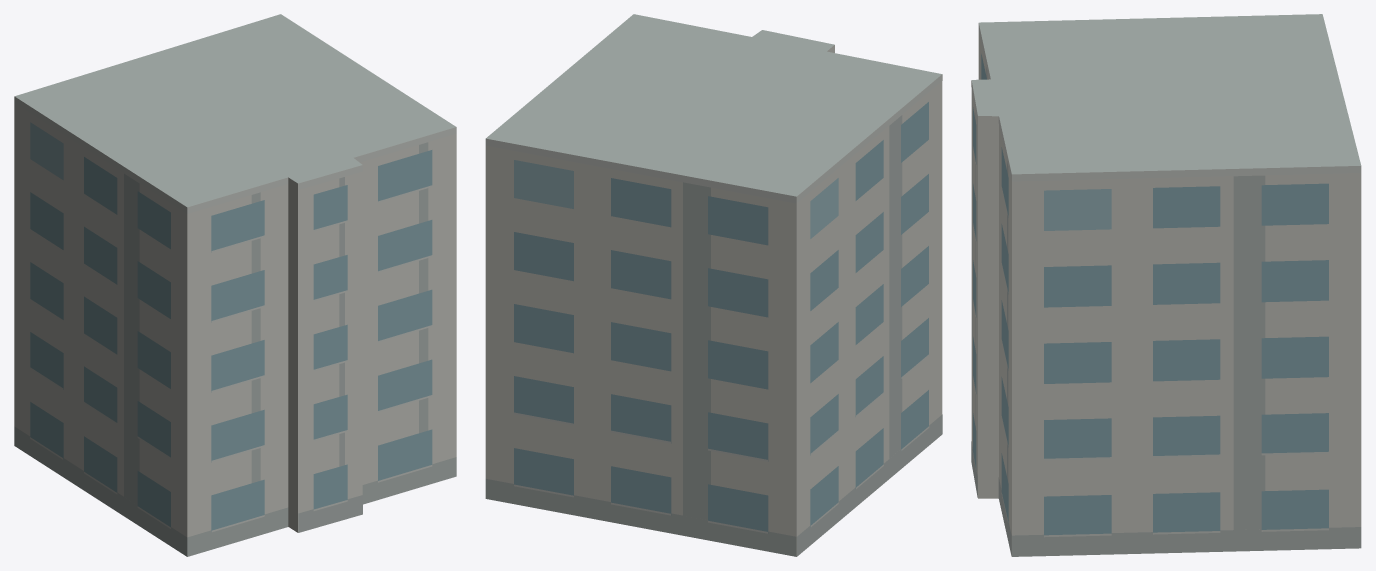
Rendered from survey-upis-32532453.glb.
3 renders of one model, left to right at view 1: azimuth 30°, elevation 25°; view 2: azimuth 150°, elevation 25°; view 3: azimuth 270°, elevation 25°, orthographic. The views are drawn at different scales.
Parts seen in each view (by area): view 1: survey-upis-32532453.tmp; view 2: survey-upis-32532453.tmp; view 3: survey-upis-32532453.tmp.
Boxes of the visible parts, <box> form: survey-upis-32532453.tmp: <box>14,14,456,556</box>; survey-upis-32532453.tmp: <box>485,14,942,556</box>; survey-upis-32532453.tmp: <box>971,14,1361,556</box>.
Size of the model in its own units: 11.43 by 12.7 by 11.74.
